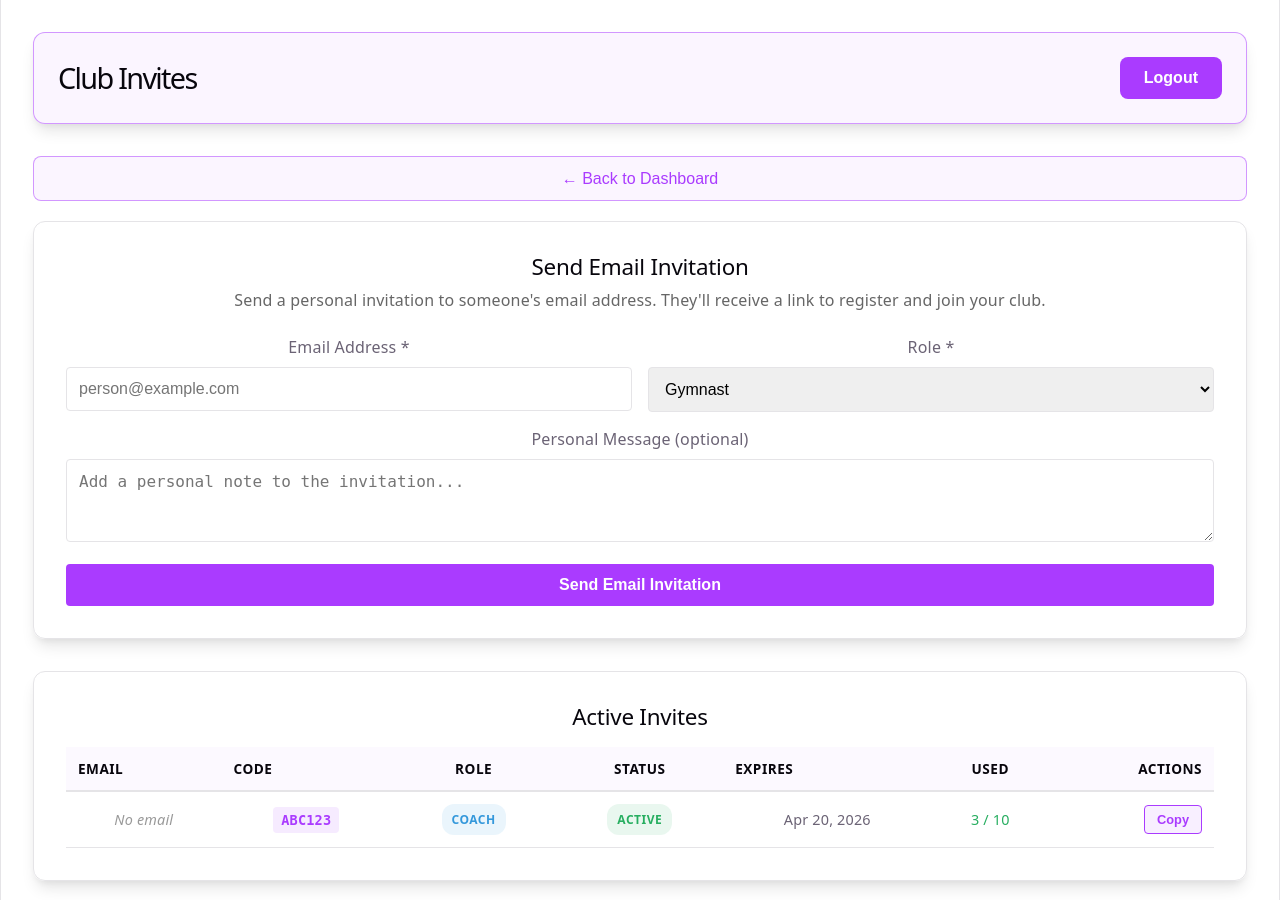
Test: ClubInvitesPage › should copy invite code to clipboard when copy button is clicked
The image size is (1280, 900).
Expected: the text "ABC123" is shown, [273,806,339,833]
Click the button "Copy" at point(1173, 820), box [1144,805,1202,834]
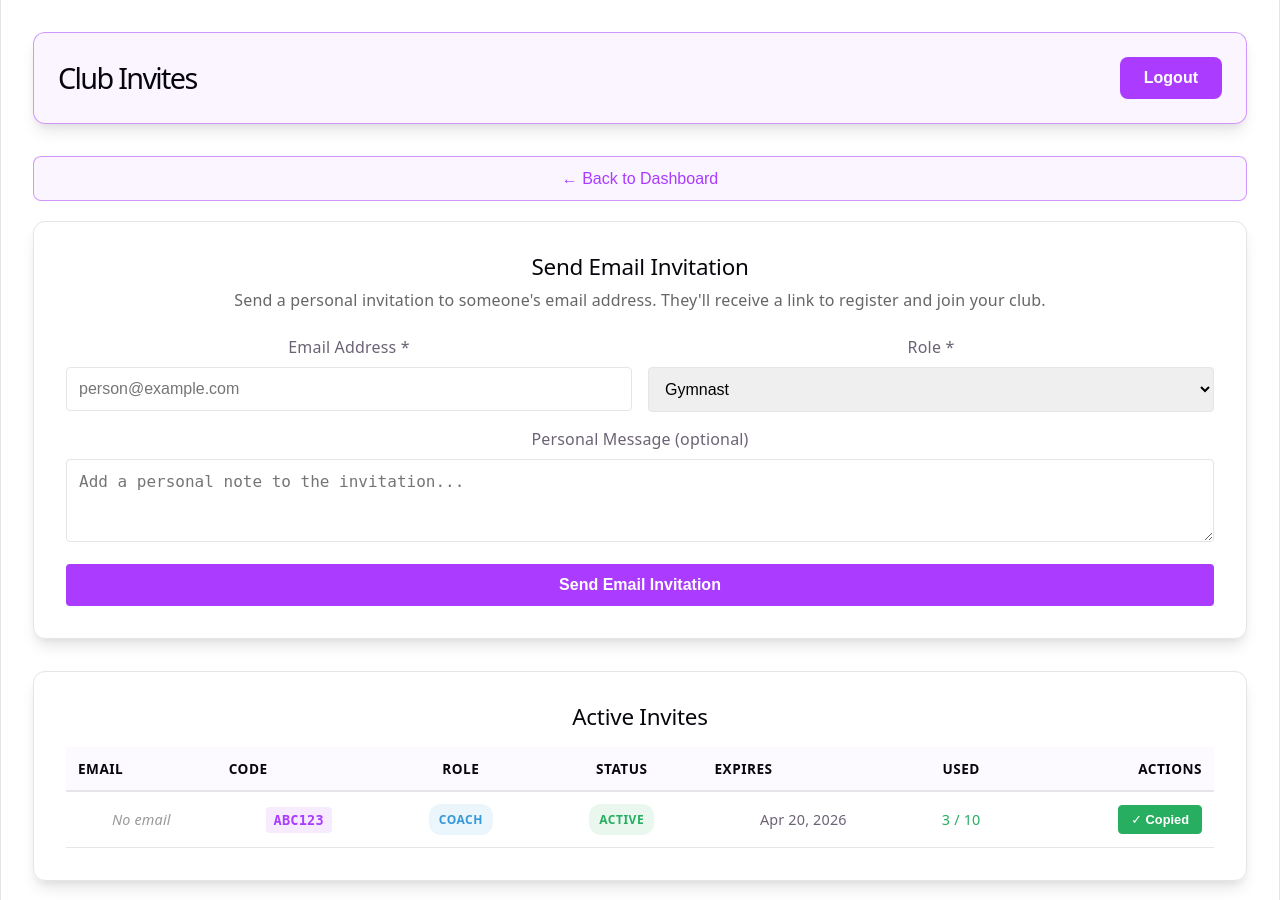
Result: the button "✓ Copied" is shown at [1118,805,1202,834]
